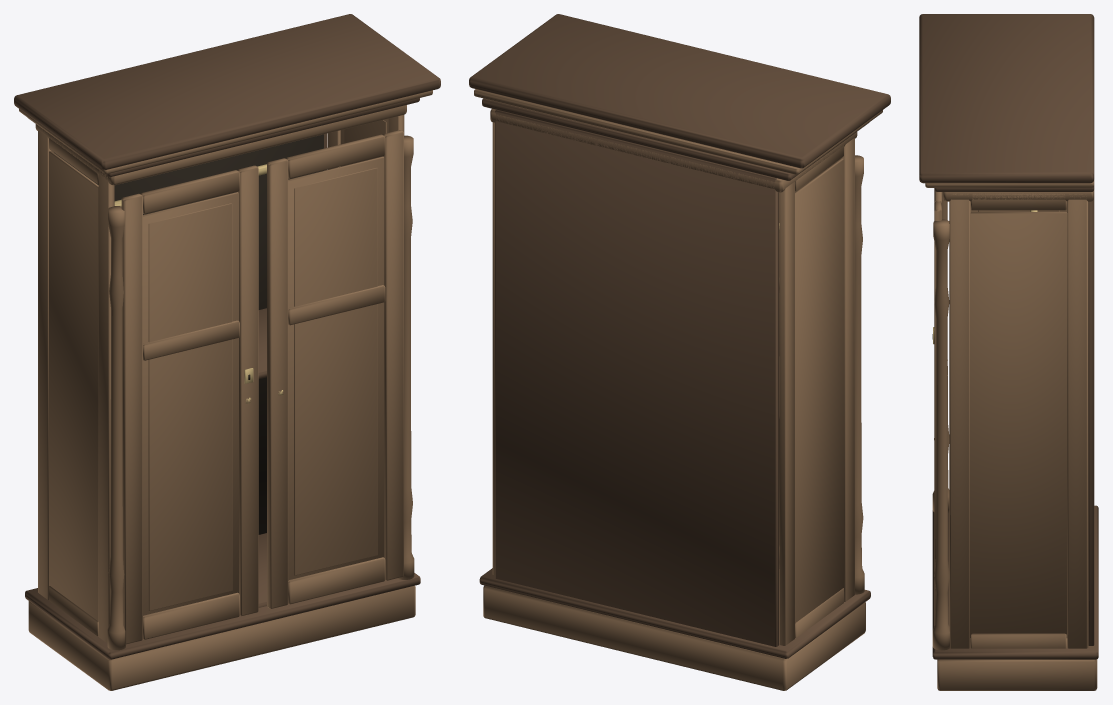
The model's file is wardrobe.glb.
The picture shows the model from 3 angles, left to right: view 1: azimuth 30°, elevation 25°; view 2: azimuth 150°, elevation 25°; view 3: azimuth 270°, elevation 25°; orthographic projection. The views are drawn at different scales.
Parts seen in each view (by area): view 1: cornice3, doorL_p_field, doorR_p_field, side-1_panel, base, doorR_p_stileL, doorL_p_stileL, doorR_p_stileR, doorL_p_stileR, doorR_p_panel, doorL_p_panel, side-1_stileL (+17 smaller); view 2: back, cornice3, side-1_panel, base, side-1_stileR, side-1_stileL, plinth, column-1, cornice2, cornice1, cornice0, side1_stileL (+1 smaller); view 3: side1_panel, cornice3, side1_stileL, side1_stileR, column1, base, plinth, back, side1_railT, side1_railB, cornice0, doorR_p_stileR (+3 smaller).
Part boxes in pixels (box(x1,y1,x2,y2)): cornice3: box(14, 14, 440, 170); doorL_p_field: box(148, 203, 232, 610); doorR_p_field: box(294, 168, 377, 575); side-1_panel: box(49, 151, 98, 621); base: box(28, 585, 415, 690); doorR_p_stileL: box(267, 158, 288, 608); doorL_p_stileL: box(121, 193, 142, 644); doorR_p_stileR: box(383, 130, 403, 580); doorL_p_stileR: box(237, 165, 258, 616); doorR_p_panel: box(288, 156, 384, 580); doorL_p_panel: box(143, 192, 238, 615); side-1_stileL: box(98, 170, 114, 643); back: box(495, 110, 778, 646); cornice3: box(469, 14, 890, 168); side-1_panel: box(795, 158, 844, 623); base: box(483, 585, 865, 690); side-1_stileR: box(779, 182, 794, 645); side-1_stileL: box(839, 138, 854, 601); plinth: box(479, 568, 870, 658); column-1: box(855, 155, 864, 594); cornice2: box(474, 89, 882, 174); cornice1: box(482, 98, 868, 180); cornice0: box(490, 109, 857, 192); side1_stileL: box(492, 122, 494, 575); side1_panel: box(970, 212, 1067, 637); cornice3: box(919, 14, 1094, 183); side1_stileL: box(1067, 194, 1088, 648); side1_stileR: box(949, 193, 970, 648); column1: box(932, 219, 949, 650); base: box(937, 659, 1097, 690); plinth: box(932, 505, 1098, 659); back: box(1088, 198, 1094, 645); side1_railT: box(970, 193, 1066, 210); side1_railB: box(970, 633, 1066, 648); cornice0: box(943, 190, 1094, 201); doorR_p_stileR: box(934, 201, 941, 625).
Bounding box in the file's own units: 1.26 × 1.92 × 0.595.
